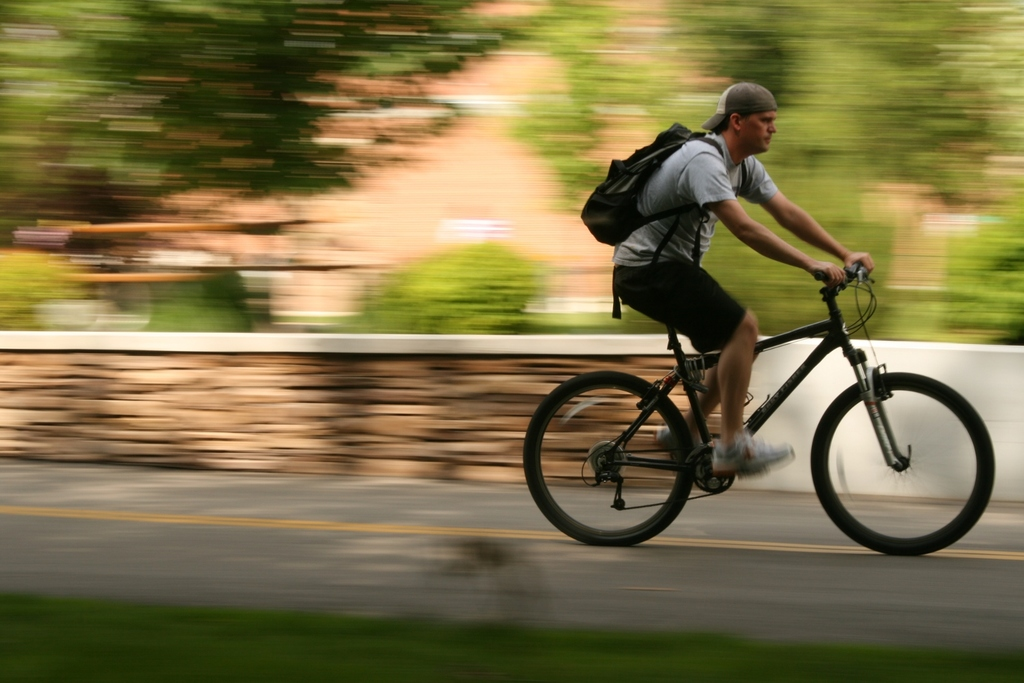Bike_away: (525, 271, 999, 554)
